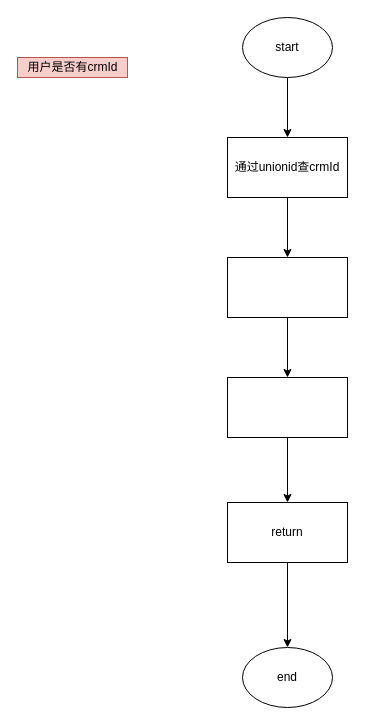
Some shapes in this 365 by 725 pixel diagram are drawn without their labels. Here are the shapes that lost their labels. From the top down, the centre of each, then its label:
At point 287,287: "获取到一个crmId".
At point 287,407: "讲openid同步给crm".
